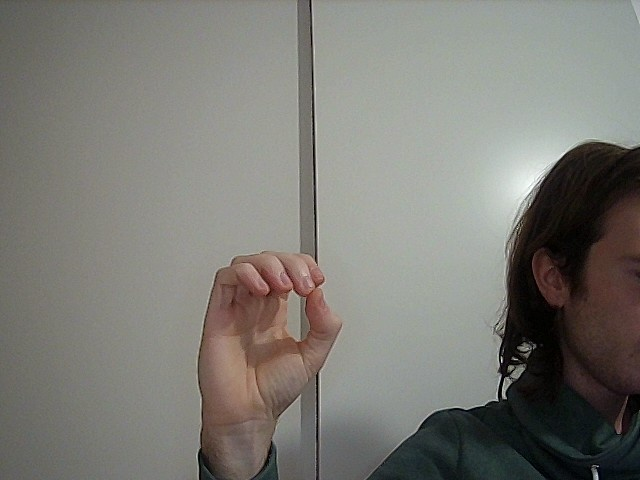o: (177, 236, 351, 416)
